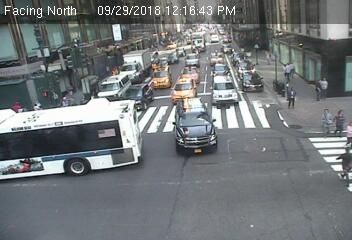car: (1, 102, 140, 186), (172, 98, 215, 154), (98, 73, 131, 102), (210, 75, 240, 105), (119, 50, 151, 77), (123, 84, 153, 108), (240, 70, 266, 94), (171, 79, 198, 100), (152, 65, 170, 90), (211, 62, 230, 79), (209, 49, 226, 66), (236, 60, 258, 73), (182, 66, 199, 82), (185, 53, 200, 66), (167, 52, 180, 64), (223, 45, 234, 54), (223, 33, 232, 43), (210, 35, 219, 44)
